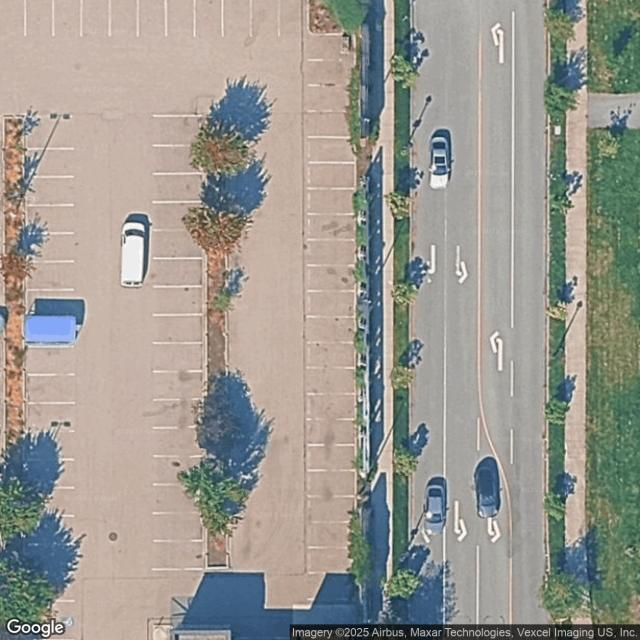car: (120, 220, 146, 288)
lot_boundary: (16, 0, 361, 639)
objects: (24, 316, 78, 346)
